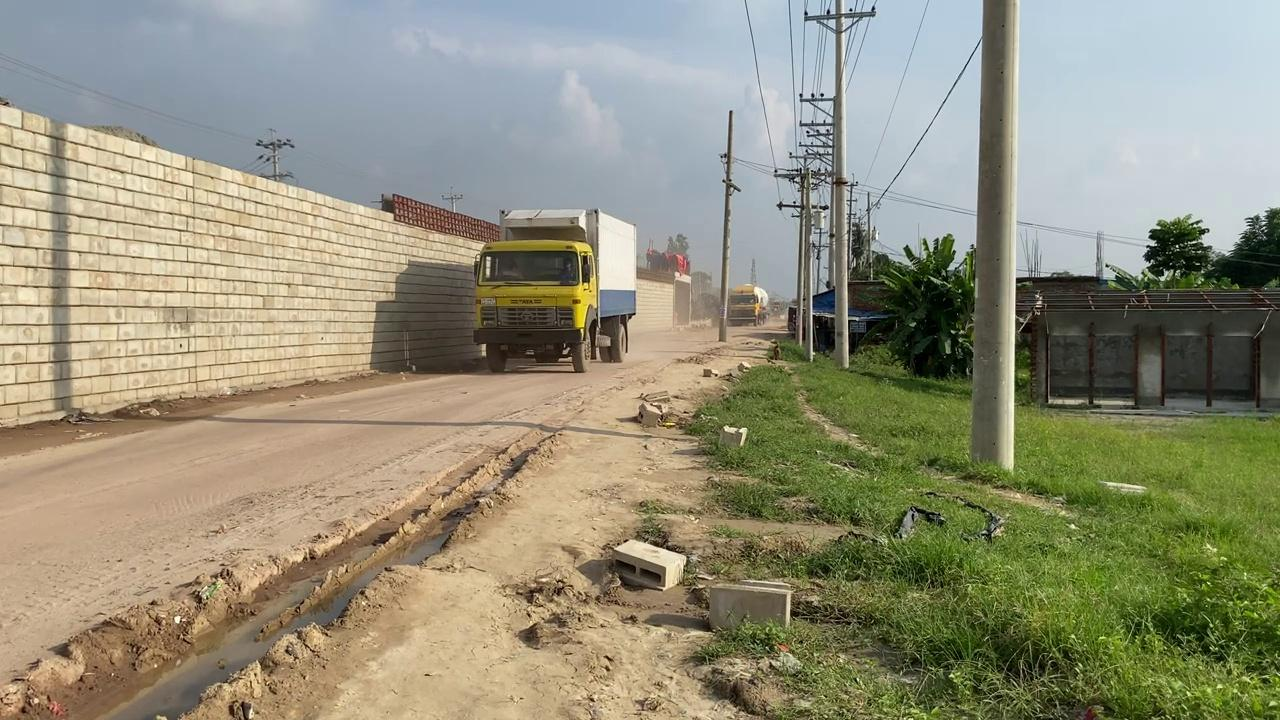Dog: (766, 338, 781, 364)
Muddy road: (1, 315, 795, 718)
Obstacle: (706, 579, 791, 632), (610, 538, 686, 591)
Pole: (803, 0, 876, 368), (969, 0, 1019, 472), (830, 1, 849, 369), (717, 109, 734, 341)
Sidewalk: (88, 421, 560, 718)
Traffic-sign: (1142, 212, 1213, 283)
Tree: (472, 206, 637, 373), (726, 284, 769, 326), (645, 242, 690, 275)
Upstairs: (0, 98, 495, 428)
